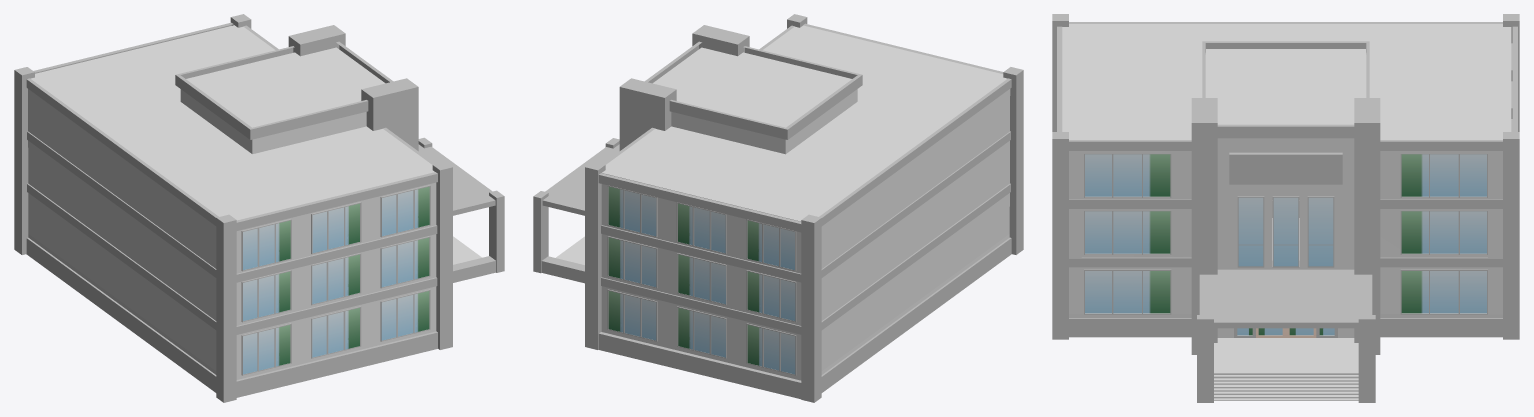
File: SD_Building.fbx
3 views of the same model, side by side, from view 1: azimuth 30°, elevation 25°; view 2: azimuth 150°, elevation 25°; view 3: azimuth 270°, elevation 25° (orthographic). The views are drawn at different scales.
Parts seen in each view (by area): view 1: SDBangunan_LOD0, SD_BangunanAtap, SD_Tiang1, SD_Blok1, SD_Tangga; view 2: SDBangunan_LOD0, SD_BangunanAtap, SD_Tiang2, SD_Blok2, SD_Tangga; view 3: SDBangunan_LOD0, SD_BangunanAtap, SD_Tangga, SD_Tiang2, SD_Tiang1.
Part boxes in pixels (x1=…): SDBangunan_LOD0: x1=14, y1=14, x2=452, y2=402; SD_BangunanAtap: x1=418, y1=144, x2=495, y2=215; SD_Tiang1: x1=489, y1=190, x2=504, y2=272; SD_Blok1: x1=453, y1=256, x2=495, y2=282; SD_Tangga: x1=453, y1=236, x2=481, y2=264; SDBangunan_LOD0: x1=585, y1=14, x2=1023, y2=402; SD_BangunanAtap: x1=542, y1=144, x2=619, y2=215; SD_Tiang2: x1=533, y1=191, x2=548, y2=273; SD_Blok2: x1=541, y1=256, x2=584, y2=283; SD_Tangga: x1=556, y1=236, x2=584, y2=264; SDBangunan_LOD0: x1=1052, y1=14, x2=1519, y2=354; SD_BangunanAtap: x1=1199, y1=269, x2=1372, y2=328; SD_Tangga: x1=1214, y1=338, x2=1358, y2=400; SD_Tiang2: x1=1358, y1=315, x2=1375, y2=402; SD_Tiang1: x1=1197, y1=315, x2=1213, y2=402.
Size of what is drawn, in the model's own units: 2933 by 1687 by 3078.
